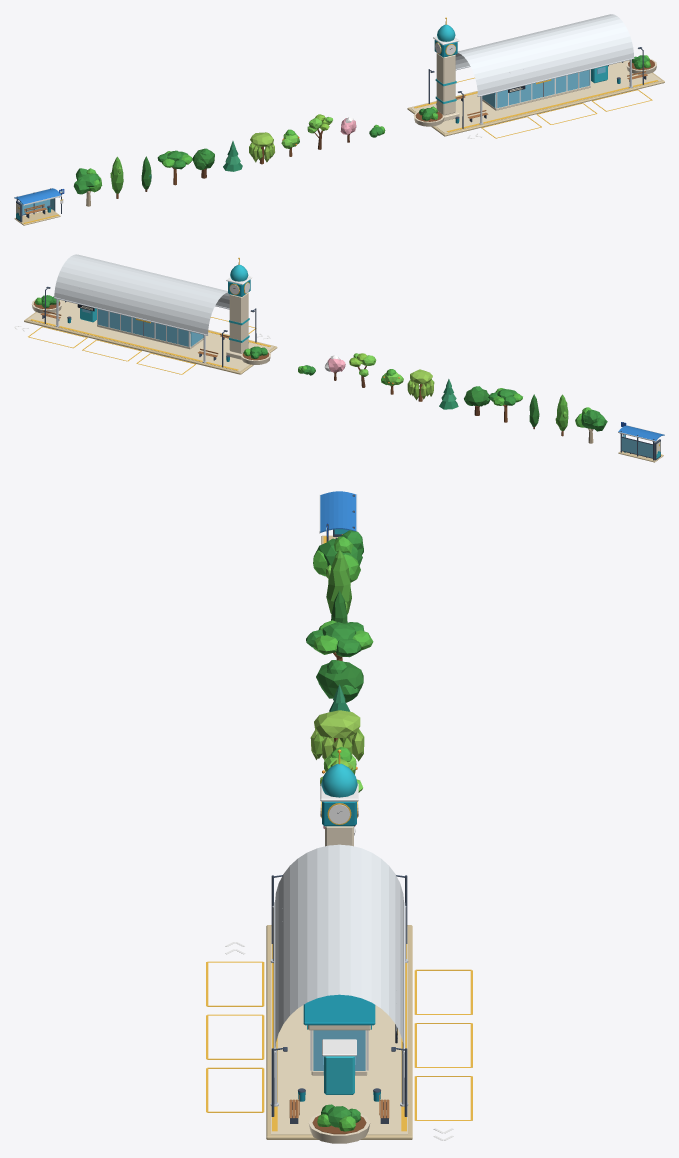
Rendered from props.glb.
3 views of the same model, one above another, from view 1: azimuth 30°, elevation 25°; view 2: azimuth 150°, elevation 25°; view 3: azimuth 270°, elevation 25° (orthographic). The views are drawn at different scales.
Parts seen in each view (by area): view 1: Terminal_roofGlass, Terminal_sidewalk, Terminal_cream, Terminal_window, Terminal_gold, Terminal_curb, Terminal_turquoise, Terminal_steel, Terminal_white, Tree_majnuntol_willow, Tree_chinor_leafDeep, BusStop_stopRoof (+4 smaller); view 2: Terminal_roofGlass, Terminal_sidewalk, Terminal_cream, Terminal_window, Terminal_gold, Terminal_curb, Terminal_turquoise, Terminal_white, Terminal_steel, Tree_majnuntol_willow, BusStop_window, Tree_chinor_leafDeep (+4 smaller); view 3: Terminal_roofGlass, Terminal_sidewalk, Terminal_gold, Terminal_turquoiseDeep, Terminal_curb, Terminal_turquoise, Terminal_cream, Terminal_white, Tree_majnuntol_willow, BusStop_stopRoof, Terminal_steel, Terminal_frame (+4 smaller).
Boxes of the visible parts, box(x1,y1,x2,y2) form: Terminal_roofGlass: box(455, 14, 633, 95); Terminal_sidewalk: box(411, 60, 661, 133); Terminal_cream: box(413, 53, 656, 126); Terminal_window: box(482, 67, 605, 107); Terminal_gold: box(414, 17, 658, 138); Terminal_curb: box(407, 72, 664, 136); Terminal_turquoise: box(435, 24, 607, 103); Terminal_steel: box(455, 58, 634, 124); Terminal_white: box(433, 36, 590, 138); Tree_majnuntol_willow: box(250, 132, 274, 162); Tree_chinor_leafDeep: box(73, 168, 100, 194); BusStop_stopRoof: box(14, 188, 60, 204); Terminal_roofGlass: box(54, 254, 229, 334); Terminal_sidewalk: box(27, 300, 273, 371); Terminal_cream: box(31, 292, 270, 364); Terminal_window: box(82, 308, 203, 346); Terminal_gold: box(28, 257, 270, 374); Terminal_curb: box(24, 312, 277, 374); Terminal_turquoise: box(80, 264, 249, 342); Terminal_white: box(14, 276, 270, 347); Terminal_steel: box(54, 291, 229, 362); Tree_majnuntol_willow: box(410, 369, 433, 399); BusStop_window: box(621, 434, 652, 457); Tree_chinor_leafDeep: box(581, 409, 607, 431); Terminal_roofGlass: box(275, 844, 403, 1048); Terminal_sidewalk: box(271, 926, 407, 1134); Terminal_gold: box(206, 749, 472, 1131); Terminal_turquoiseDeep: box(298, 801, 380, 1101); Terminal_curb: box(266, 925, 412, 1139); Terminal_turquoise: box(307, 763, 371, 1094); Terminal_cream: box(308, 826, 370, 1143); Terminal_white: box(225, 783, 453, 1140); Tree_majnuntol_willow: box(310, 710, 362, 759); BusStop_stopRoof: box(320, 491, 356, 532); Terminal_steel: box(270, 902, 408, 1106); Terminal_frame: box(271, 875, 407, 1123).
Size of the model in its own units: 74.91 by 11.48 by 13.82.
